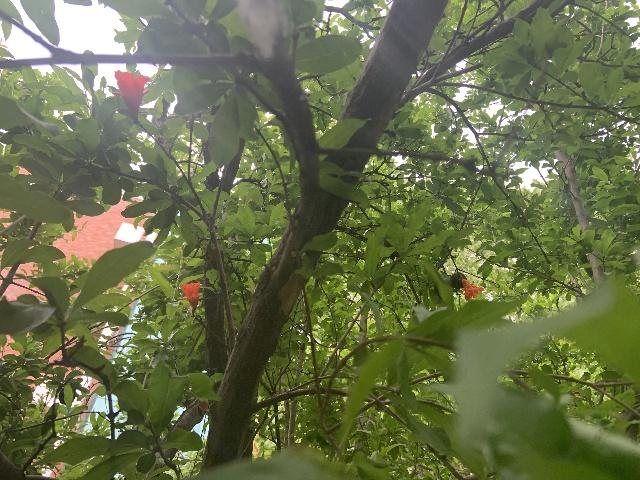flower: (110, 70, 151, 119), (180, 282, 201, 308), (460, 278, 484, 300)
